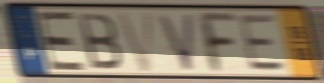B: (76, 11, 124, 72)
E: (35, 10, 88, 72), (237, 13, 290, 73)
F: (193, 9, 241, 75)
V: (113, 9, 157, 74), (155, 12, 197, 73)
